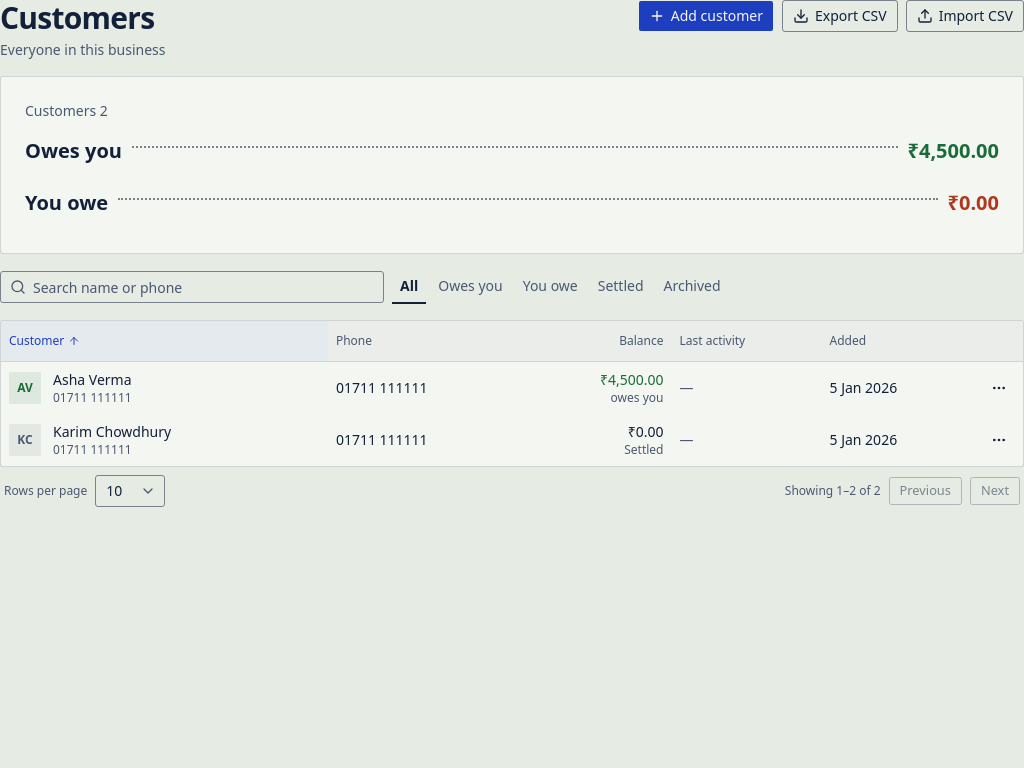
Test case: S-30 archive, restore and delete › the Owner deletes an active customer from the list: recovery copy, divider, typed-name gate, Undo
Click the button named "Actions for Asha Verma": (999, 388) [983,372,1015,404]
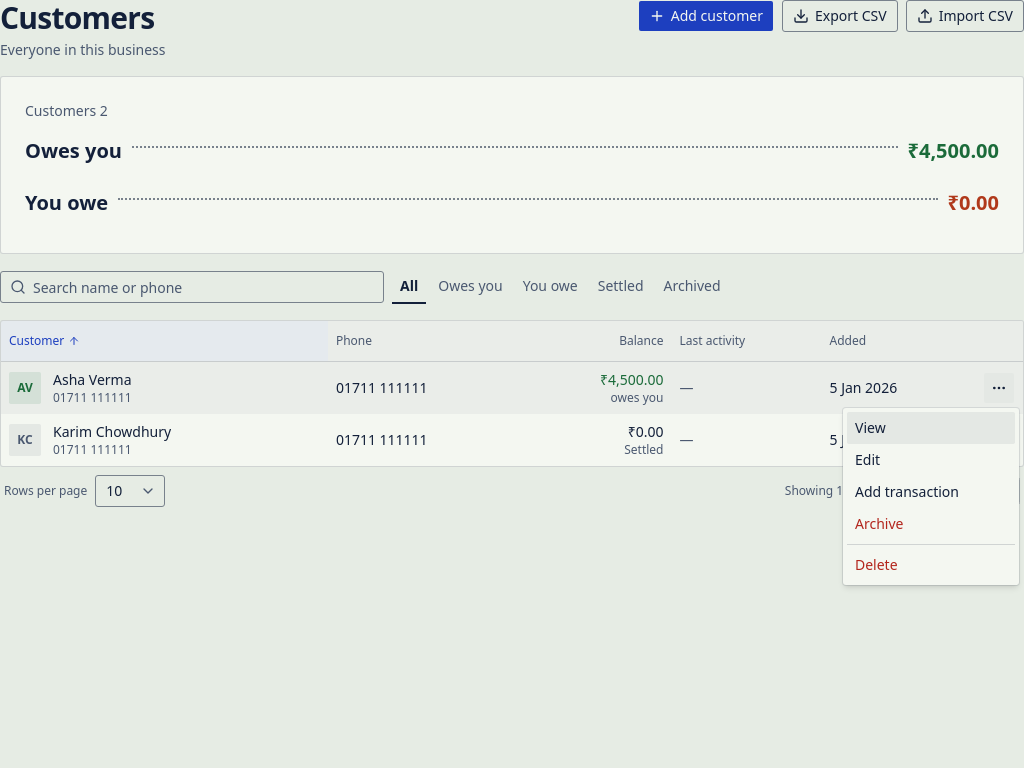
Click the menu item "Delete": (931, 565) [847,549,1015,581]
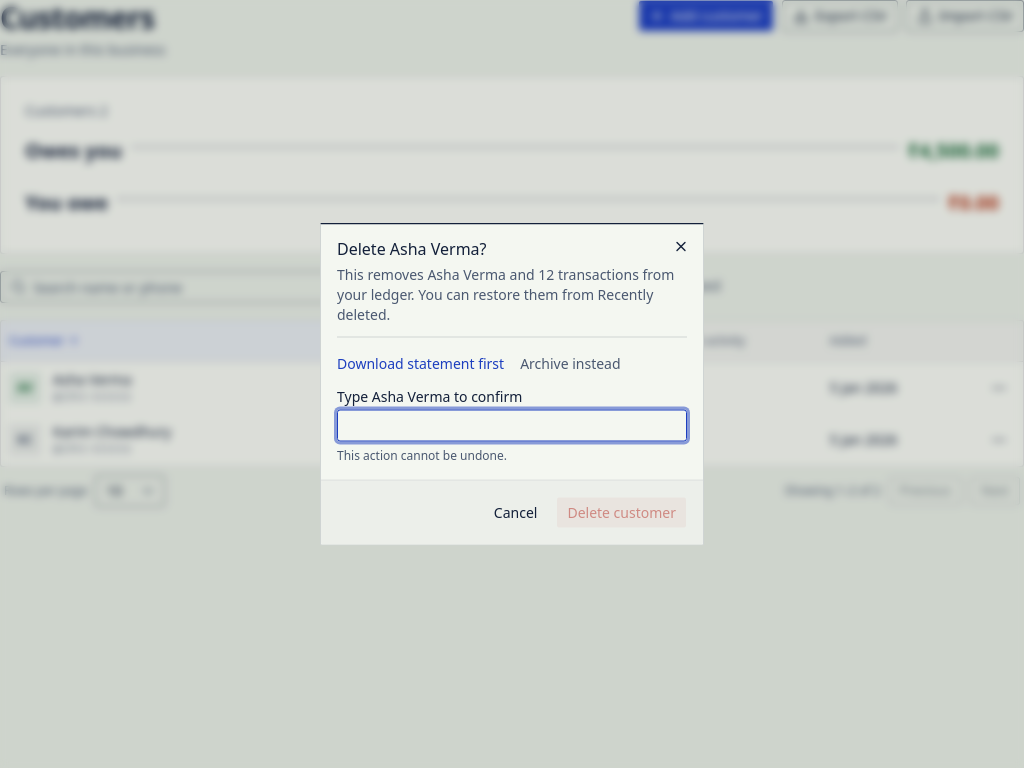
Expected: the heading "Delete Asha Verma?" is shown, [337,238,486,260]
Expected: the text "This removes Asha Verma and 12 transactions from your ledger. You can restore them from Recently deleted." is shown, [337,264,674,324]
Expected: the button "Archive instead" is shown, [520,354,621,374]
In the field labelled "Type Asha Verma to confirm": (512, 426) [337,410,687,442], type "asha verma"
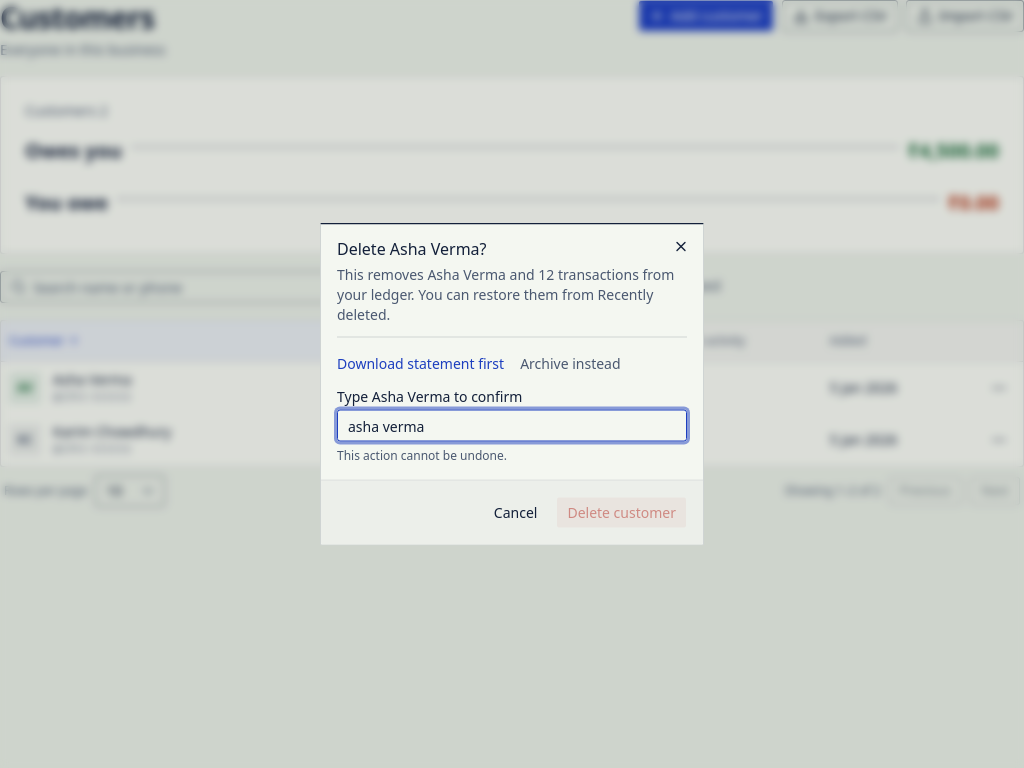
Expected: the button "Delete customer" is disabled, [556,496,687,528]
Replace the text in the field labelled "Type Asha Verma to confirm" with "Asha Verm": (512, 426) [337,410,687,442]
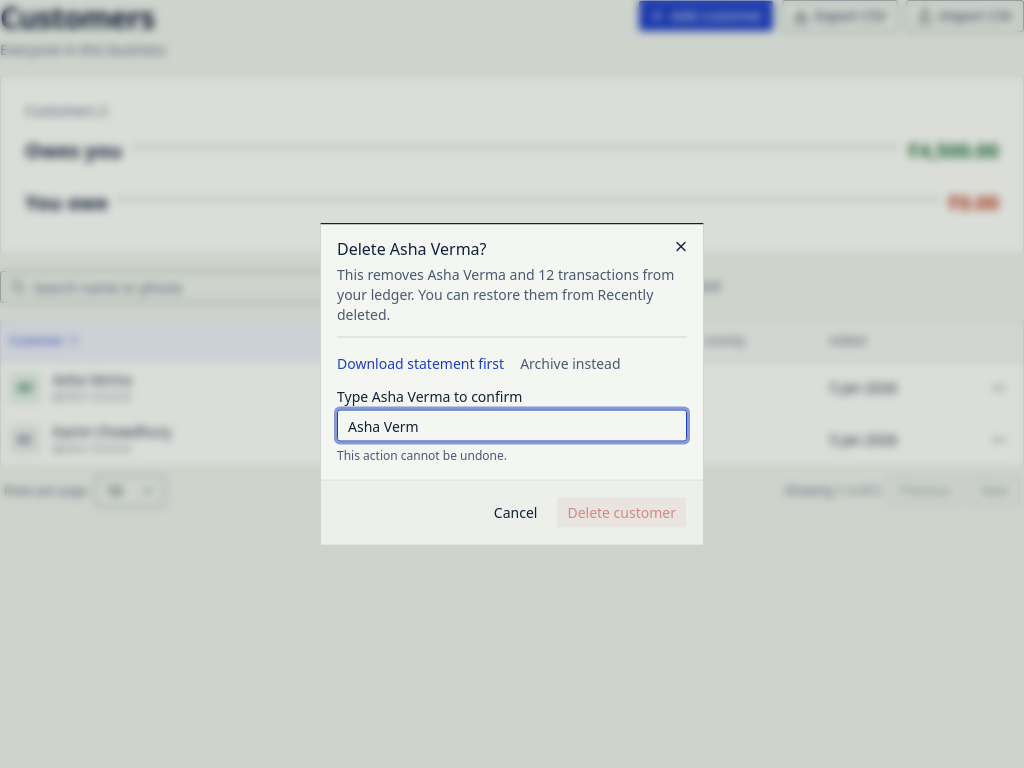
Expected: the button "Delete customer" is disabled, [556,496,687,528]
In the field labelled "Type Asha Verma to confirm": (512, 426) [337,410,687,442], type "a"
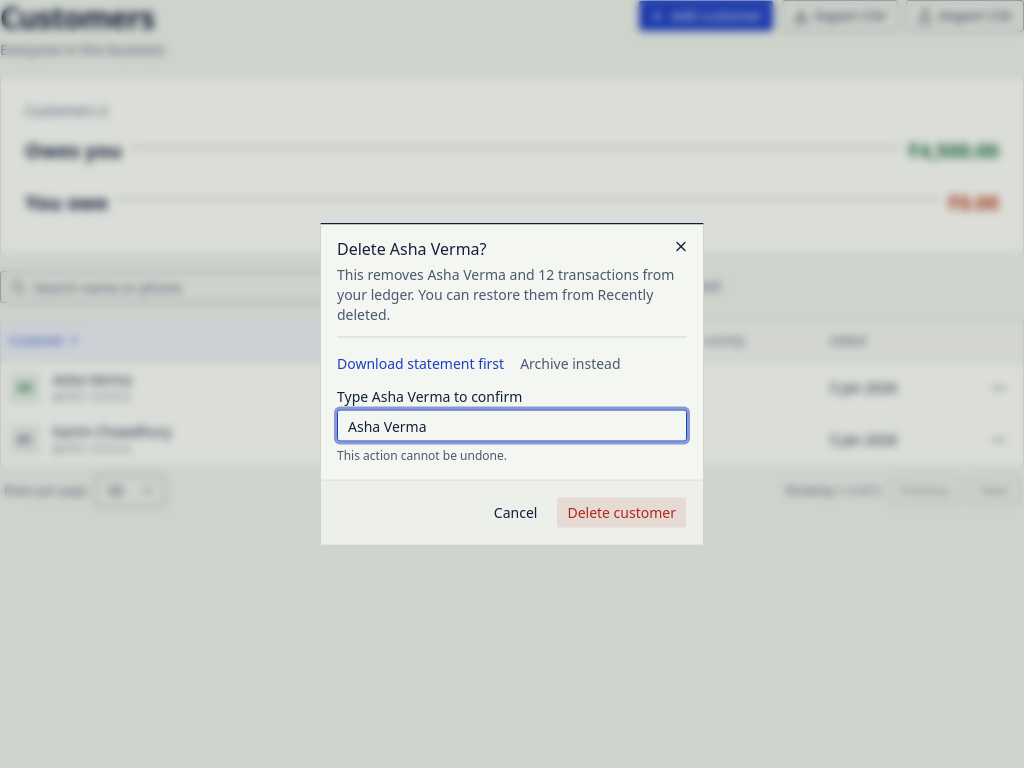
Expected: the button "Delete customer" is enabled
Click the button "Delete customer": (622, 512) [556,496,687,528]
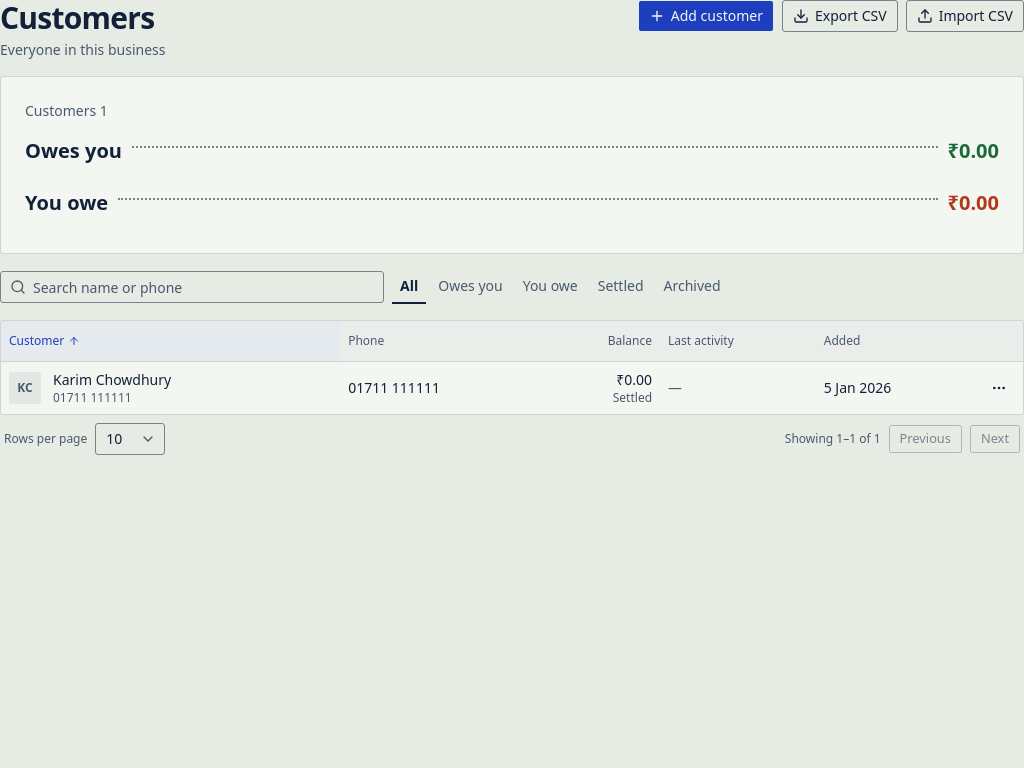
Expected: the text "Asha Verma" is gone
